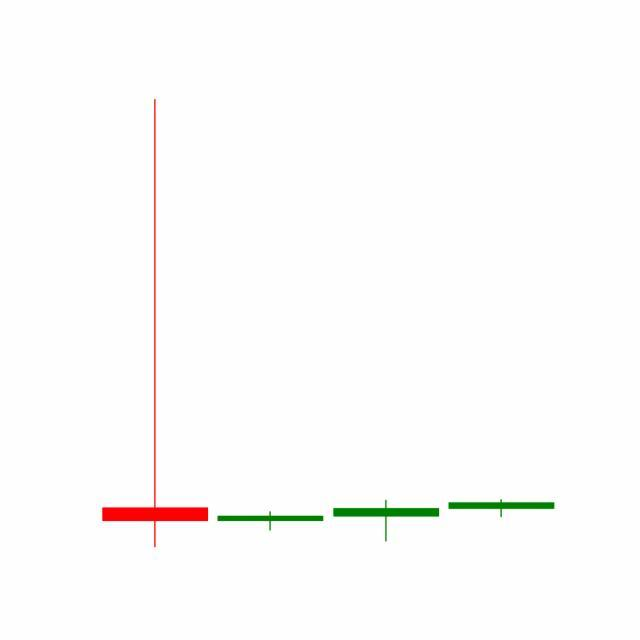Hanging Man: (444, 499, 560, 519)
